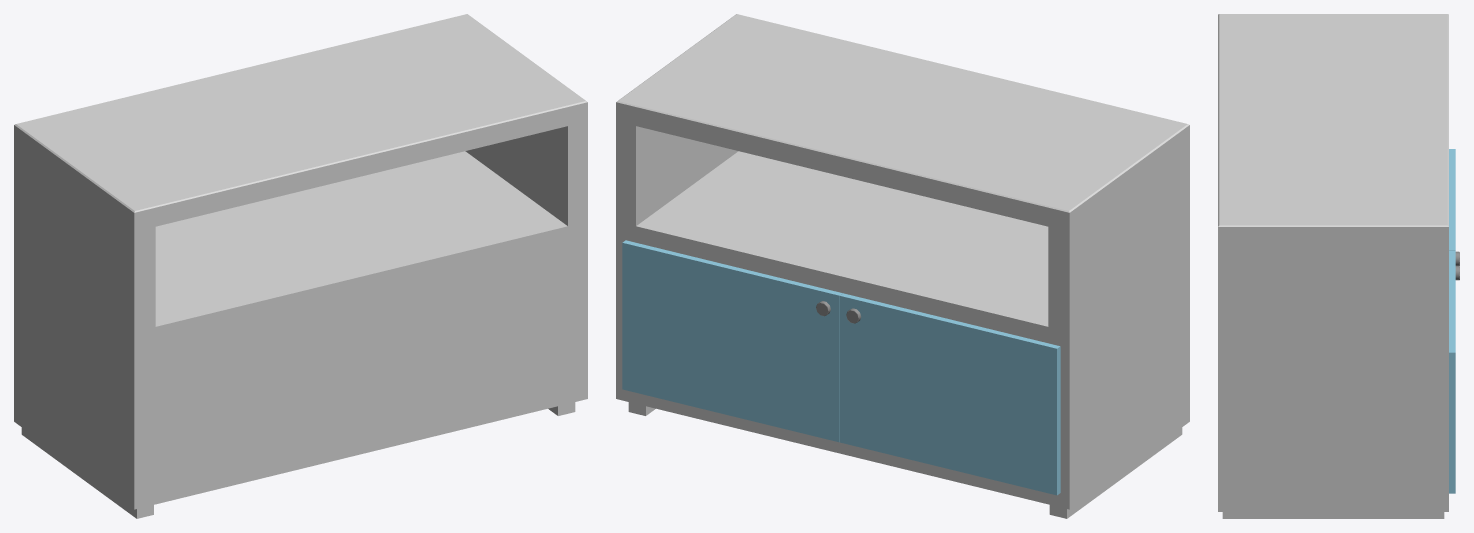
Rendered from FURNITURE_tvStand_01.FBX.
3 renders of one model, left to right at view 1: azimuth 30°, elevation 25°; view 2: azimuth 150°, elevation 25°; view 3: azimuth 270°, elevation 25°, orthographic. The views are drawn at different scales.
Visible parts, largest first — view 1: PROP_tvStand_01_base; view 2: PROP_tvStand_01_base, PROP_tvStand_01_rightDoor, PROP_tvStand_01_leftDoor; view 3: PROP_tvStand_01_base, PROP_tvStand_01_leftDoor, PROP_tvStand_01_rightDoor.
Part boxes in pixels (x1,y1,x2,y2): PROP_tvStand_01_base: (14,14,587,518); PROP_tvStand_01_base: (616,14,1189,518); PROP_tvStand_01_rightDoor: (840,293,1060,495); PROP_tvStand_01_leftDoor: (622,240,842,442); PROP_tvStand_01_base: (1218,14,1448,518); PROP_tvStand_01_leftDoor: (1449,251,1459,493); PROP_tvStand_01_rightDoor: (1449,149,1459,265).
Bounding box in the file's own units: 146 × 95.18 × 70.02.
